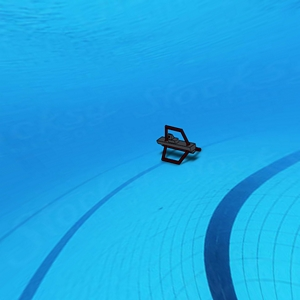submarine: (154, 124, 201, 164)
